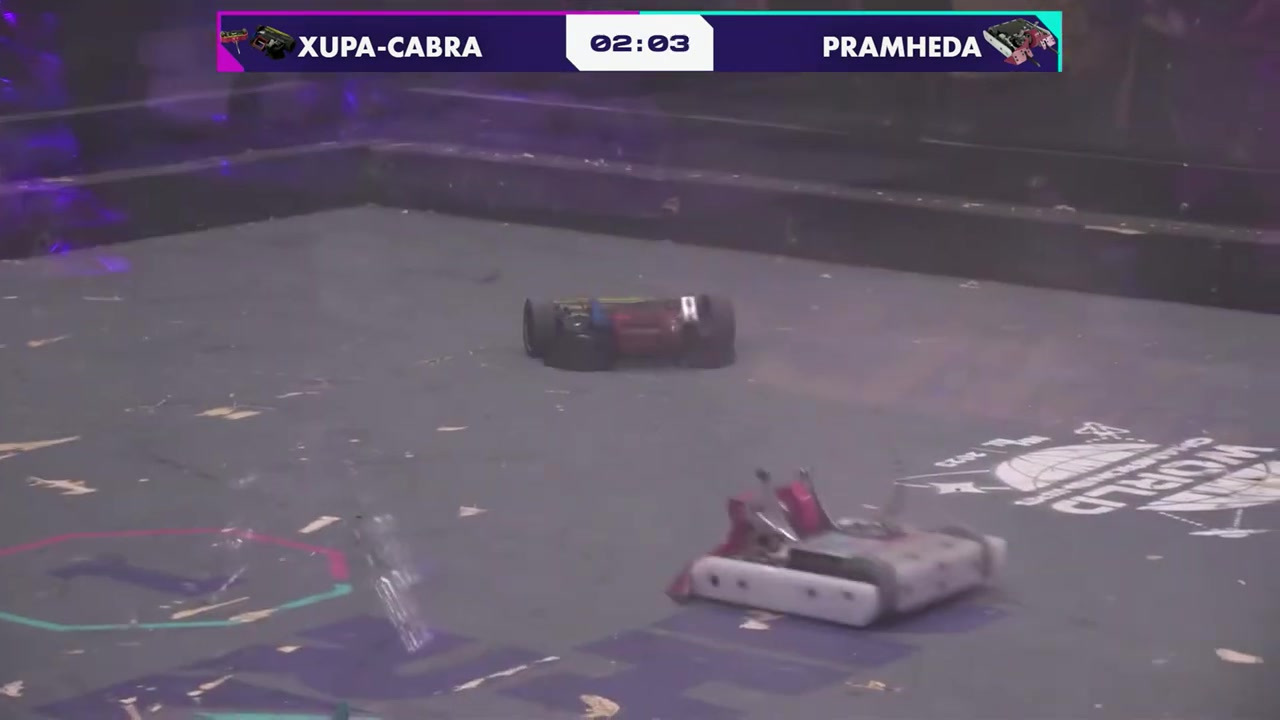combatbot: (692, 522, 1007, 630), (528, 298, 737, 368)
